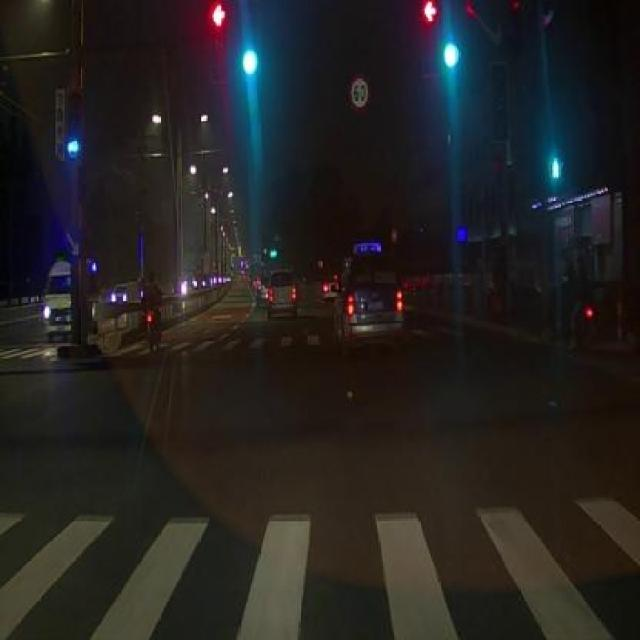forb_speed_over_60: (349, 70, 371, 113)
